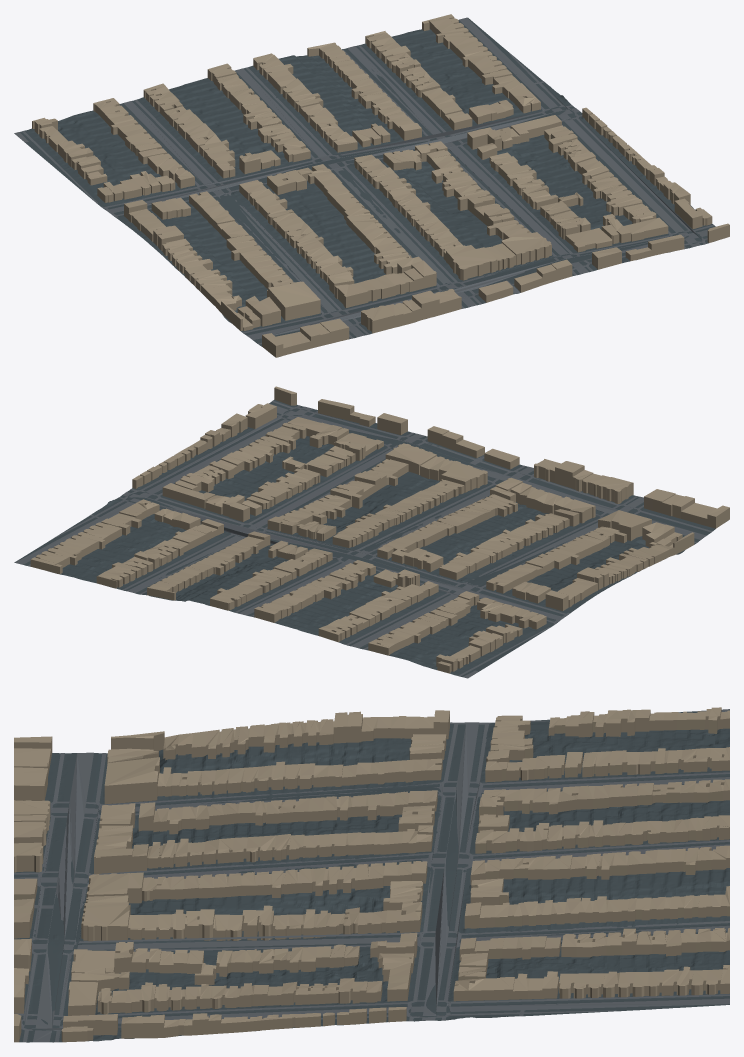
The model's file is epsg26910-1421-10881.lod0.glb.
3 renders of one model, top to bottom at view 1: azimuth 30°, elevation 25°; view 2: azimuth 150°, elevation 25°; view 3: azimuth 270°, elevation 25°, orthographic. The views are drawn at different scales.
Visible parts, largest first — view 1: epsg26910-1421-10881-lod0; view 2: epsg26910-1421-10881-lod0; view 3: epsg26910-1421-10881-lod0.
Part boxes in pixels (<box>): epsg26910-1421-10881-lod0: <box>14,14,729,357</box>; epsg26910-1421-10881-lod0: <box>14,386,729,678</box>; epsg26910-1421-10881-lod0: <box>14,707,729,1042</box>.
Size of the model in its own units: 384 by 40.78 by 384.
